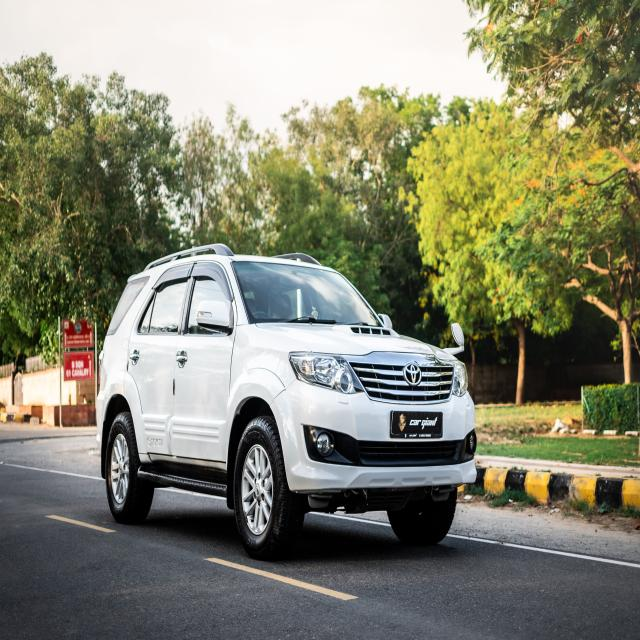light_vehicle: (95, 242, 478, 558)
